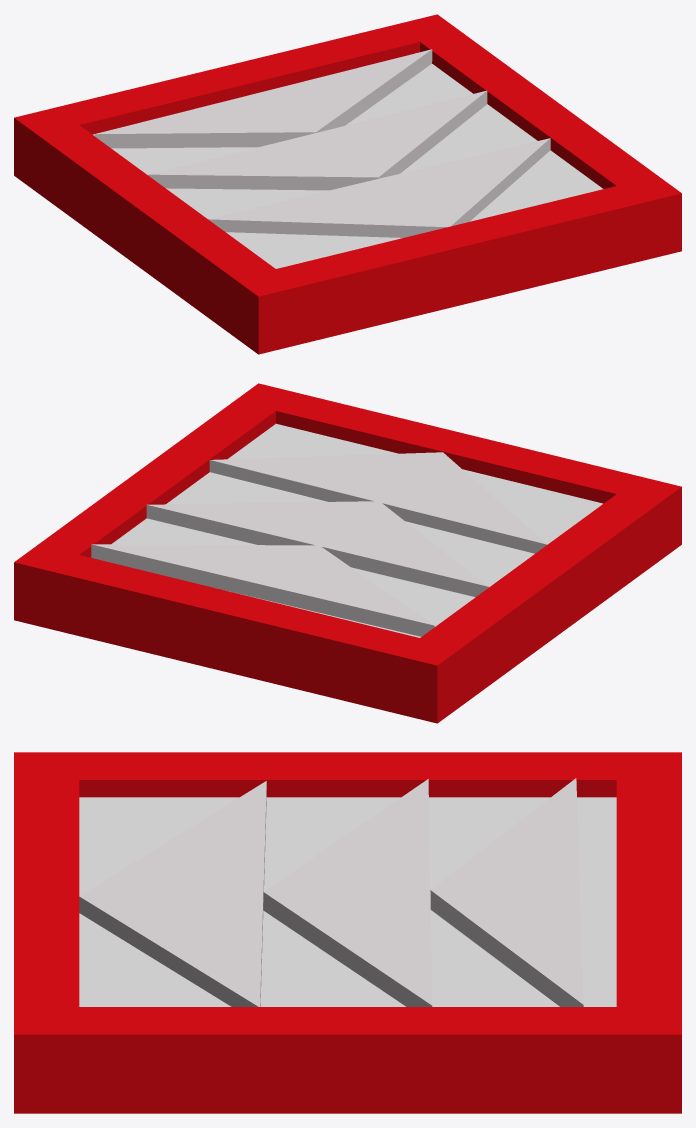
File: Jumppad.fbx
3 renders of one model, top to bottom at view 1: azimuth 30°, elevation 25°; view 2: azimuth 150°, elevation 25°; view 3: azimuth 270°, elevation 25°, orthographic. The views are drawn at different scales.
Parts seen in each view (by area): view 1: Cube; view 2: Cube; view 3: Cube.
Boxes of the visible parts, x1,y1,x2,y2 form: Cube: (14, 14, 681, 354); Cube: (14, 383, 681, 723); Cube: (14, 752, 681, 1113).
Size of the model in its own units: 200 by 26.89 by 200.
